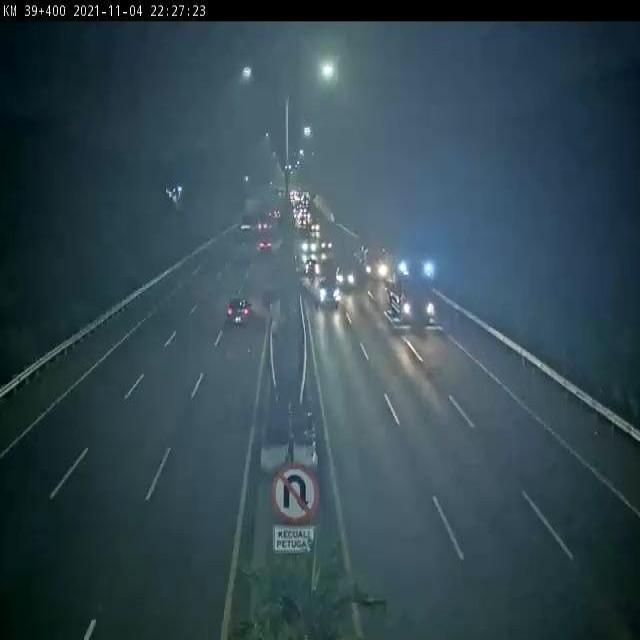car: (315, 275, 338, 308), (225, 299, 255, 321), (334, 265, 353, 288)
mid truck: (304, 256, 319, 275)
truck-l-: (386, 247, 436, 324)
truck-xl-: (354, 240, 384, 277)
